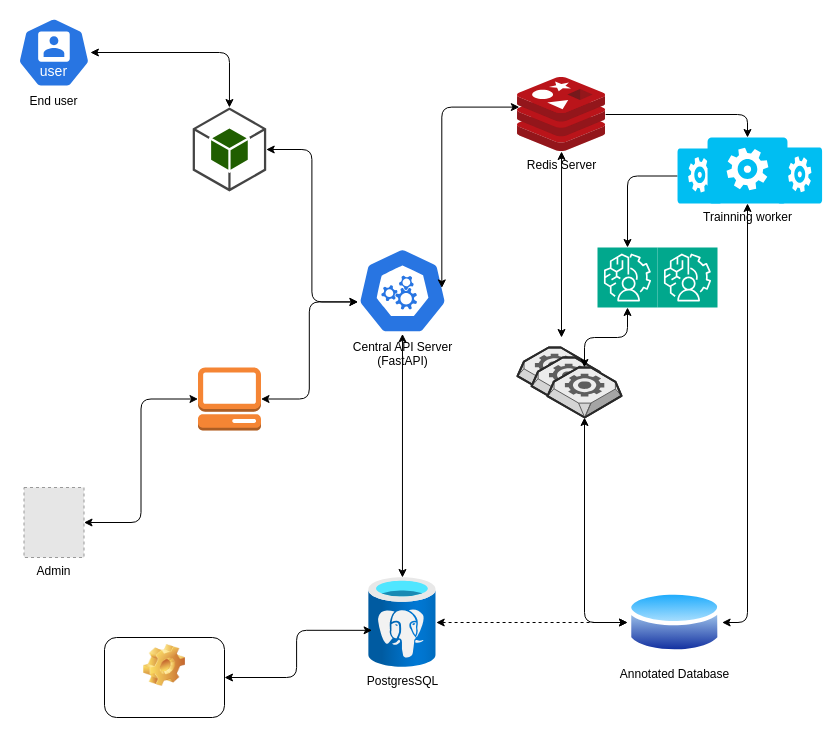
The diagram is 840 pixels wide and 735 high, and some of its shapes have lost their labels. Grey dashed boxes stand in for pictures. The shapes that lost their labels are listed below. From the top down, each one's box as (x1, y1, x2, y2) in pixels, then its label:
(192, 106, 266, 192): Inference Channel (React)
(197, 366, 261, 430): Management Channel
(546, 366, 622, 418): job worker
(104, 636, 224, 718): Label Studio
